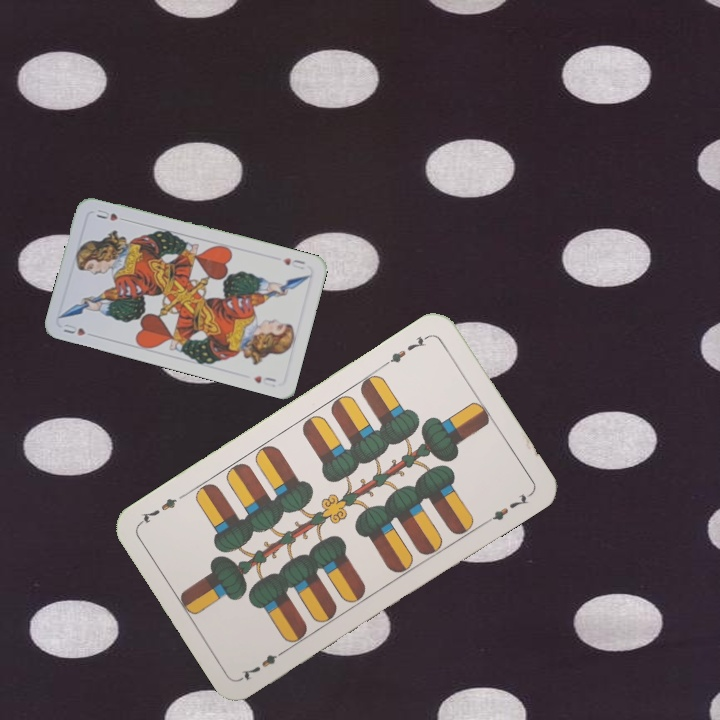E7: (237, 644, 290, 683), (380, 331, 432, 369)
HU: (279, 254, 308, 272), (59, 320, 88, 338)
